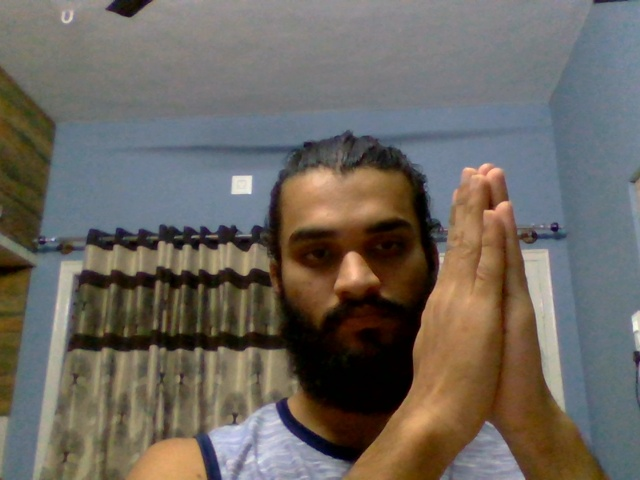ThankYou: (410, 162, 562, 414)
